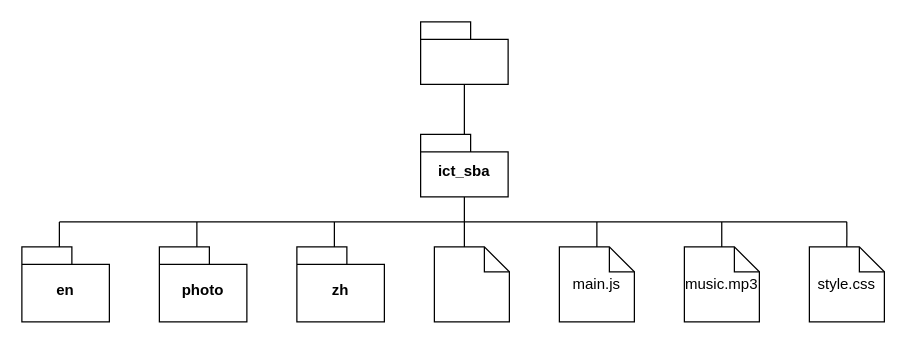
This 906x344 diagram has some shape labels left out. Here are the shapes that lost their labels. From the top down, the centre of each, then its label:
the point at 463,52: www
the point at 471,284: app.js
